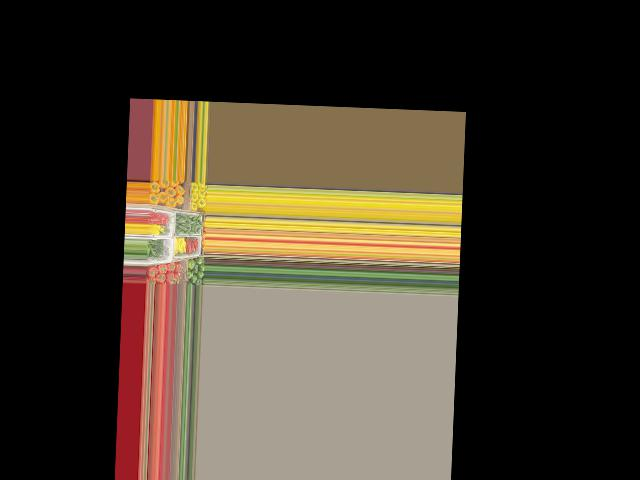bell_pepper: (185, 269, 196, 279)
